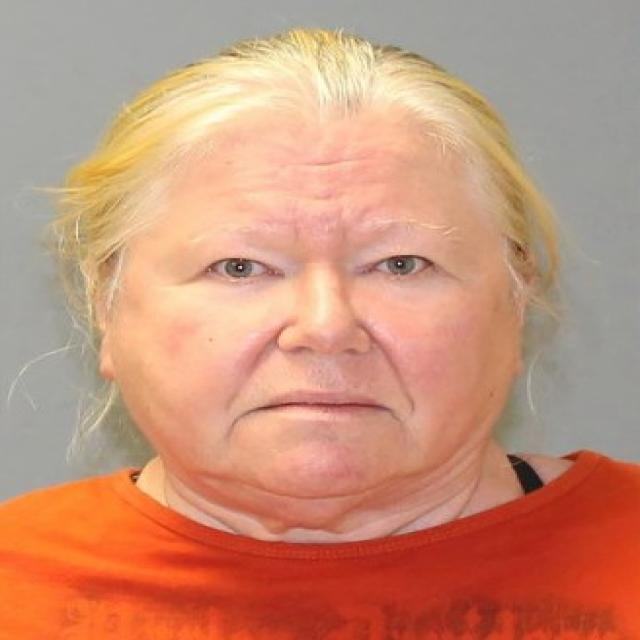mobile_phonerotation: (0, 25, 638, 638)
